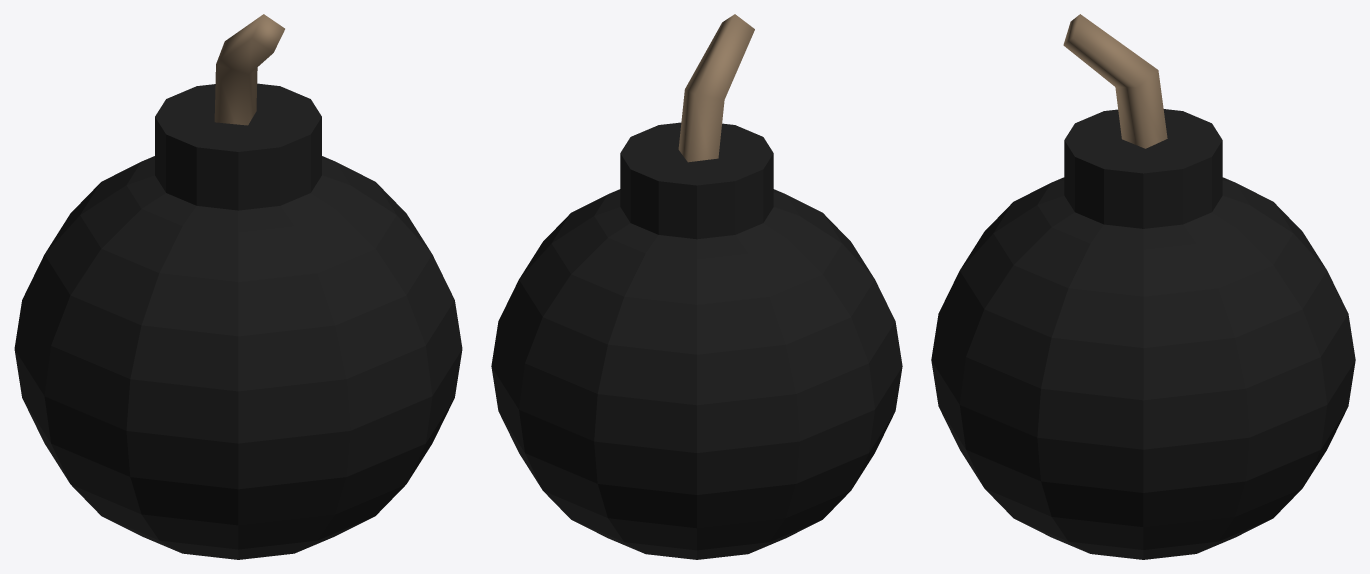
Rendered from Bomb.fbx.
3 views of the same model, side by side, from view 1: azimuth 30°, elevation 25°; view 2: azimuth 150°, elevation 25°; view 3: azimuth 270°, elevation 25° (orthographic). The views are drawn at different scales.
Visible parts, largest first — view 1: Sphere, Cylinder, BézierCurve; view 2: Sphere, Cylinder, BézierCurve; view 3: Sphere, Cylinder, BézierCurve.
Boxes of the visible parts, x1,y1,x2,y2 form: Sphere: [14, 156, 462, 559]; Cylinder: [155, 83, 321, 210]; BézierCurve: [214, 14, 284, 125]; Sphere: [491, 189, 902, 559]; Cylinder: [620, 122, 773, 239]; BézierCurve: [678, 14, 754, 162]; Sphere: [931, 177, 1355, 559]; Cylinder: [1064, 109, 1222, 228]; BézierCurve: [1063, 14, 1167, 148].
Bounding box in the file's own units: 200 × 271 × 200.
